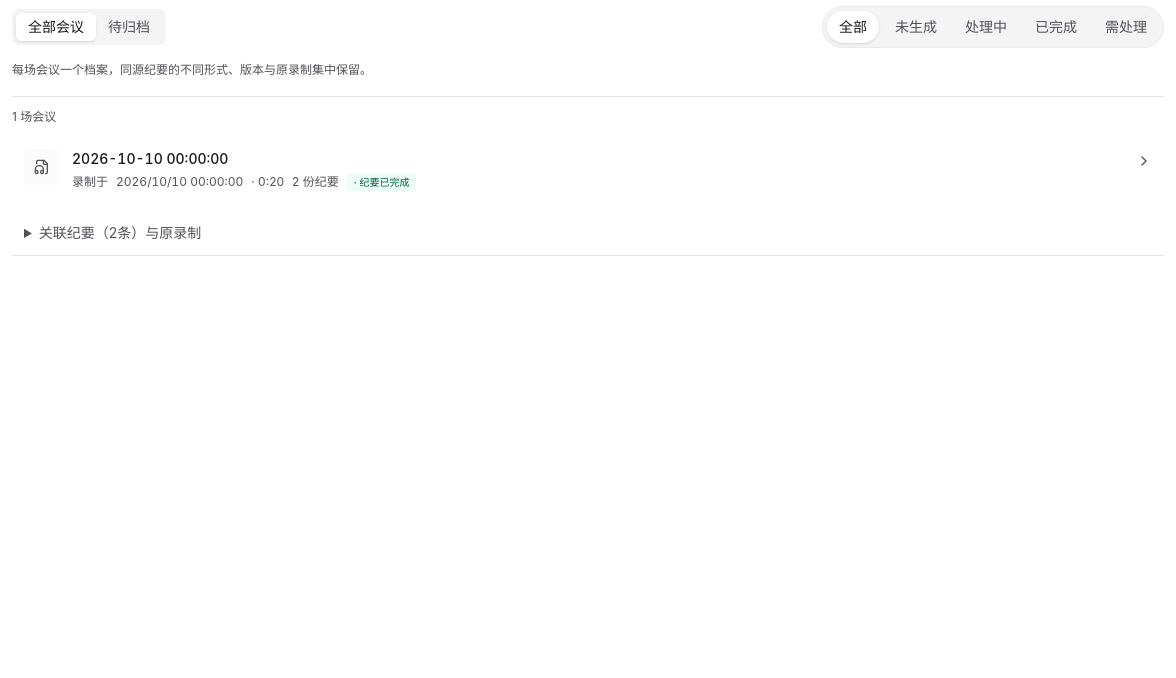
separates related minutes from the retained recording without inventing generated version counts
Click the heading "关联纪要（2条）与原录制": (120, 232) [39, 224, 201, 241]
(page scrolled)
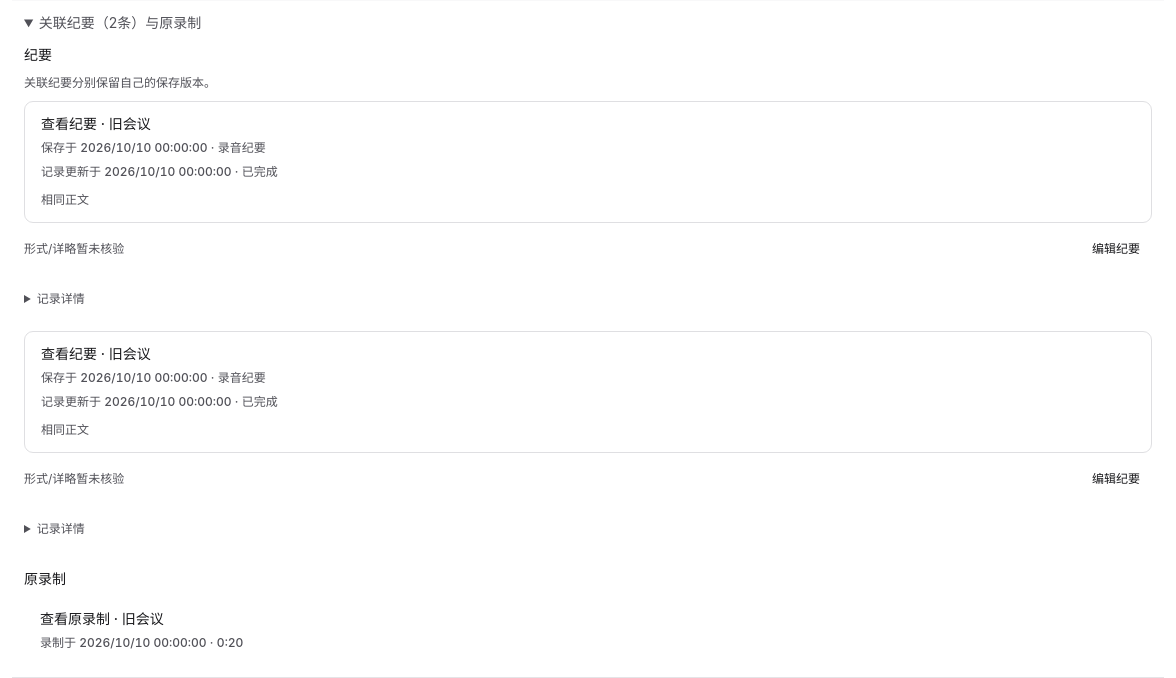
Now the element "关联纪要" is shown
Now the element named "关联原录制" is shown, box [24, 569, 1152, 665]
